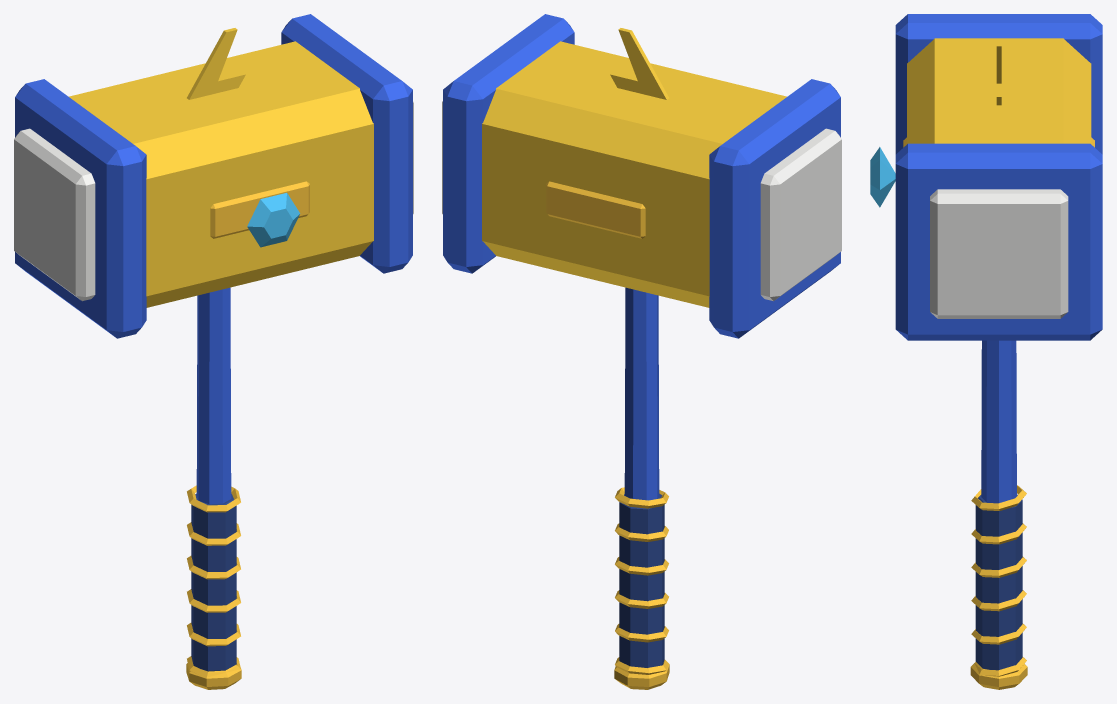
The model's file is ThunderHammer.fbx.
3 views of the same model, side by side, from view 1: azimuth 30°, elevation 25°; view 2: azimuth 150°, elevation 25°; view 3: azimuth 270°, elevation 25° (orthographic).
Parts seen in each view (by area): view 1: ThunderHammer; view 2: ThunderHammer; view 3: ThunderHammer.
Part boxes in pixels (left/top/right/bottom): ThunderHammer: left=14, top=14, right=413, bottom=689; ThunderHammer: left=442, top=14, right=841, bottom=689; ThunderHammer: left=870, top=14, right=1102, bottom=689.
Bounding box in the file's own units: 2.54 × 4.64 × 1.52.
Materials: 1 (1 with a texture image).
